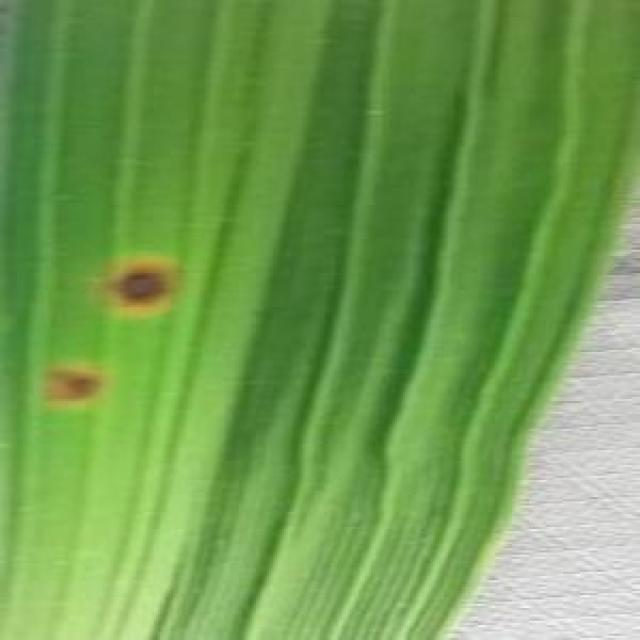Brown_Spot: (106, 245, 186, 322), (37, 364, 116, 407)
